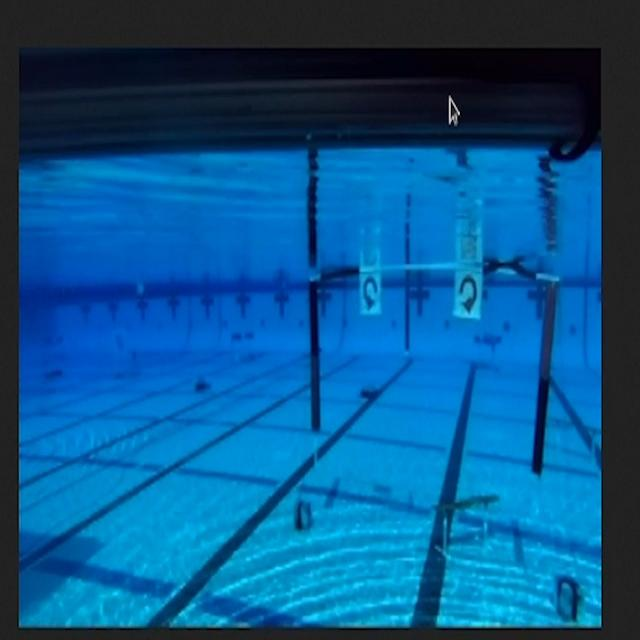Gate: (295, 247, 568, 482)
Path: (422, 485, 501, 576)
